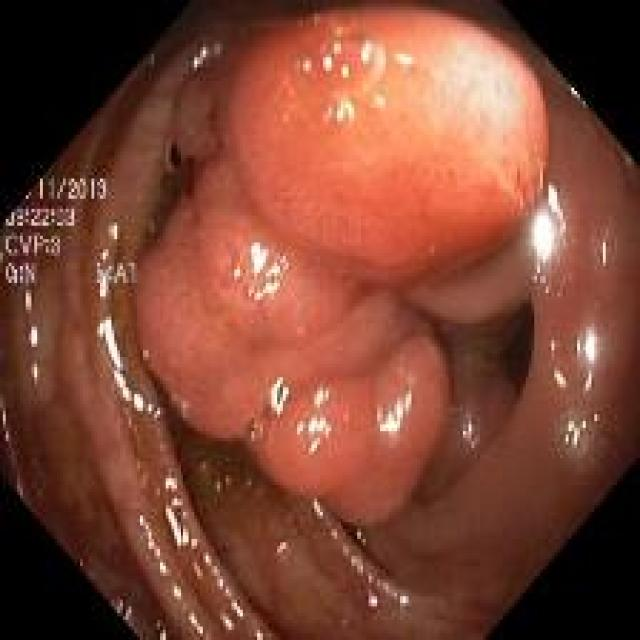Polyps: (138, 10, 546, 525), (219, 9, 549, 288)
